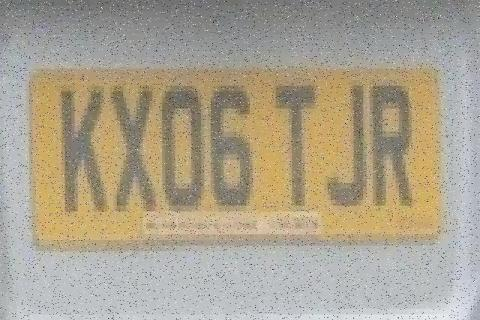LicensePlate: (23, 30, 461, 280)
